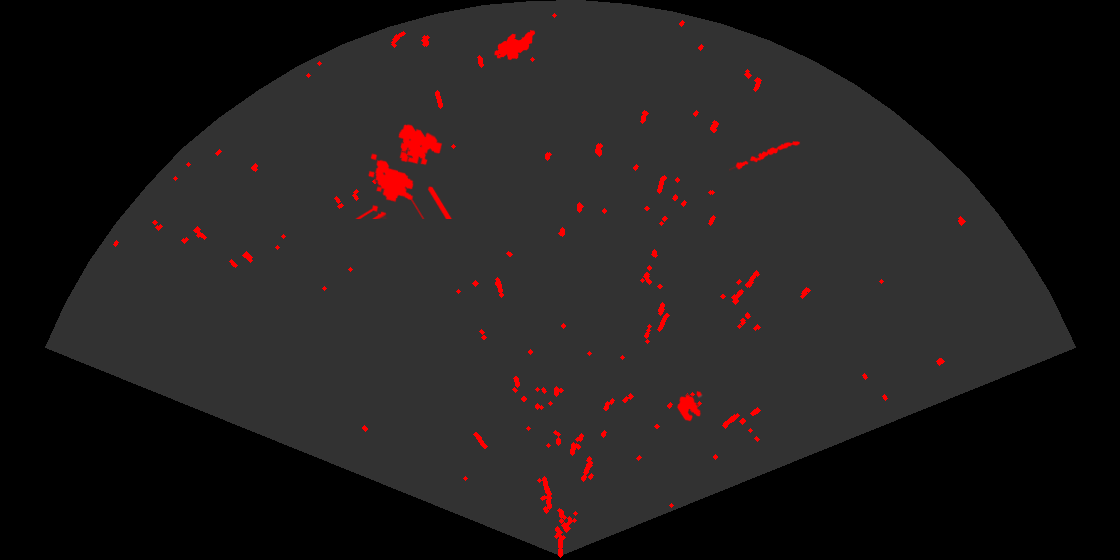AUV: (493, 28, 537, 62)
ball: (675, 389, 704, 423)
cage: (354, 123, 454, 219)
chain: (729, 139, 802, 173)
